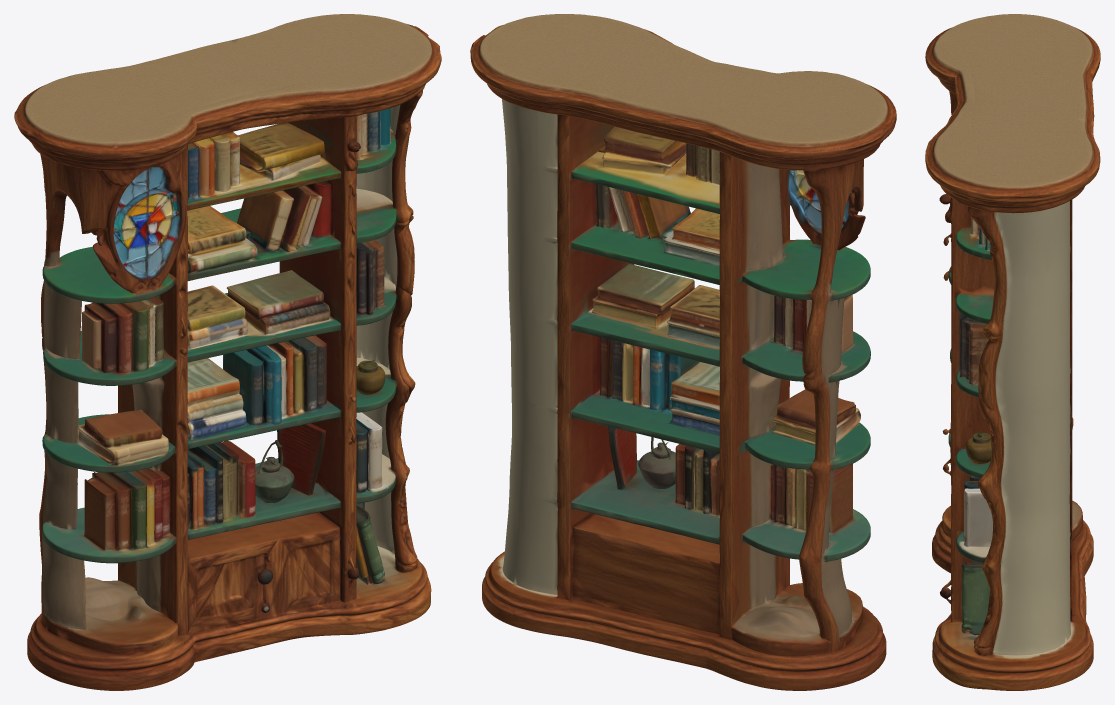
The model's file is art-nouveau-bookshelf.glb.
3 renders of one model, left to right at view 1: azimuth 30°, elevation 25°; view 2: azimuth 150°, elevation 25°; view 3: azimuth 270°, elevation 25°, orthographic. The views are drawn at different scales.
Visible parts, largest first — view 1: tripo_node_7225ff24-4746-4443-bfd1-5a07c0619987; view 2: tripo_node_7225ff24-4746-4443-bfd1-5a07c0619987; view 3: tripo_node_7225ff24-4746-4443-bfd1-5a07c0619987.
Part boxes in pixels (x1,y1,x2,y2): tripo_node_7225ff24-4746-4443-bfd1-5a07c0619987: [14, 14, 441, 690]; tripo_node_7225ff24-4746-4443-bfd1-5a07c0619987: [470, 14, 896, 690]; tripo_node_7225ff24-4746-4443-bfd1-5a07c0619987: [925, 14, 1100, 690].
Size of the model in its own units: 0.7507 by 0.9807 by 0.3067.
1 material, 1 textured.
